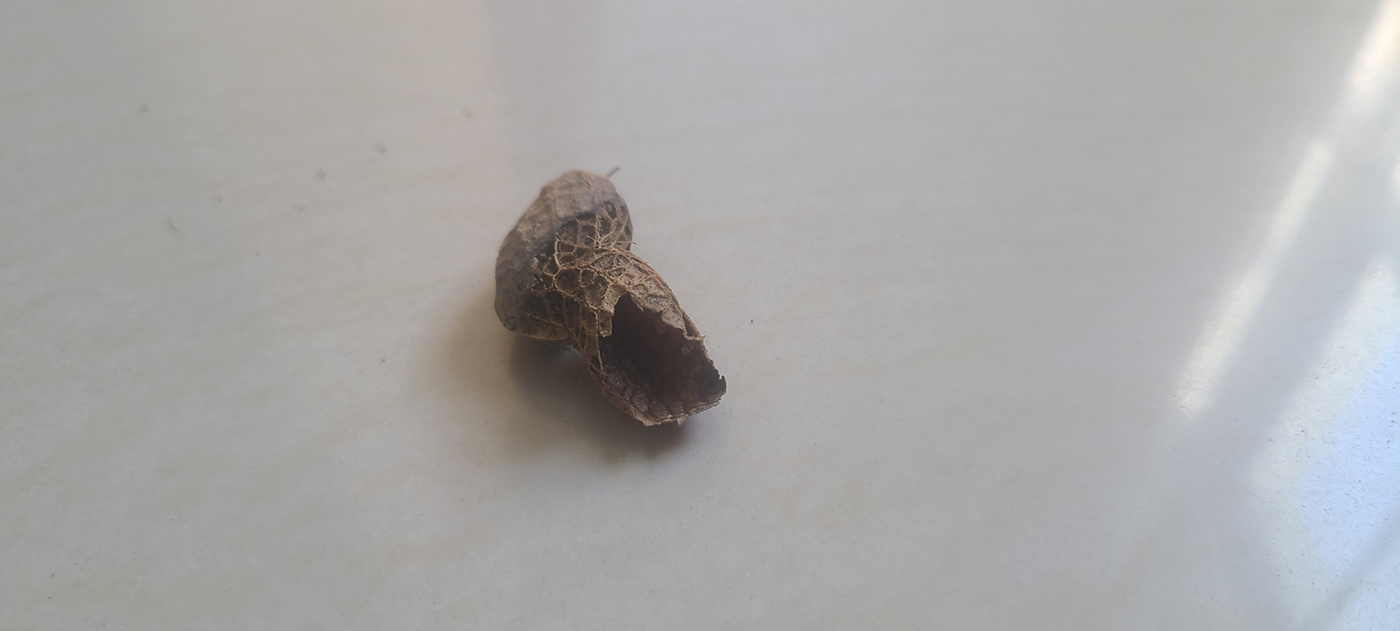l: (491, 171, 731, 422)
